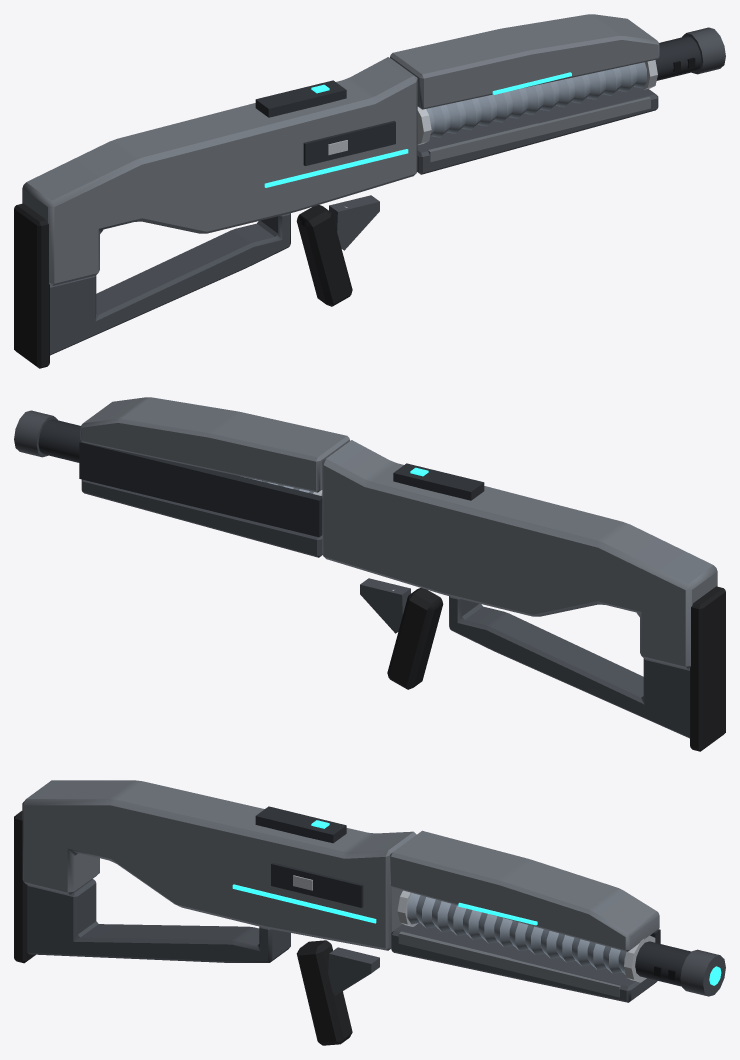
The model's file is opr_wpn_kinetic_accelerator_a.glb.
3 renders of one model, top to bottom at view 1: azimuth 30°, elevation 25°; view 2: azimuth 150°, elevation 25°; view 3: azimuth 330°, elevation 25°, orthographic.
Parts seen in each view (by area): view 1: mesh_intact; view 2: mesh_intact; view 3: mesh_intact.
Part boxes in pixels (bbox=[...]): mesh_intact: bbox=[14, 14, 725, 368]; mesh_intact: bbox=[14, 397, 725, 751]; mesh_intact: bbox=[14, 780, 725, 1045].
Size of the model in its own units: 0.9052 by 0.2761 by 0.078.
